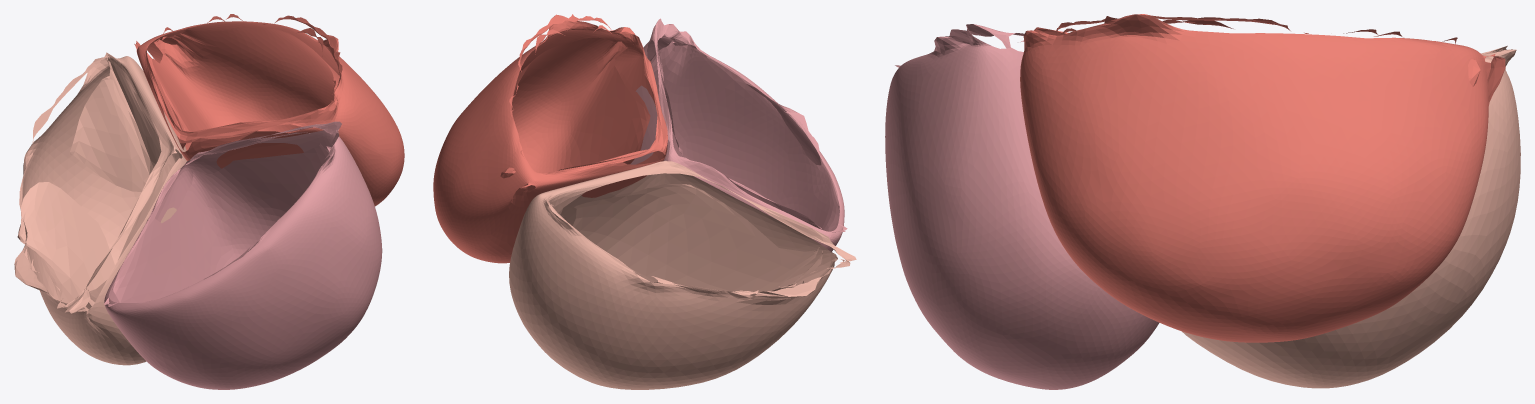
The model's file is valvola_aortica.glb.
3 views of the same model, side by side, from view 1: azimuth 30°, elevation 25°; view 2: azimuth 150°, elevation 25°; view 3: azimuth 270°, elevation 25° (orthographic). The views are drawn at different scales.
Parts seen in each view (by area): view 1: anterior cusp of aortic valve, right posterior cusp of aortic valve, left posterior cusp of aortic valve; view 2: right posterior cusp of aortic valve, left posterior cusp of aortic valve, anterior cusp of aortic valve; view 3: left posterior cusp of aortic valve, anterior cusp of aortic valve, right posterior cusp of aortic valve.
Boxes of the visible parts, left/top/right/bottom form: anterior cusp of aortic valve: left=104, top=121, right=382, bottom=389; right posterior cusp of aortic valve: left=14, top=52, right=186, bottom=365; left posterior cusp of aortic valve: left=134, top=14, right=404, bottom=206; right posterior cusp of aortic valve: left=509, top=160, right=856, bottom=389; left posterior cusp of aortic valve: left=433, top=14, right=667, bottom=263; anterior cusp of aortic valve: left=630, top=18, right=847, bottom=251; left posterior cusp of aortic valve: left=1020, top=14, right=1505, bottom=342; anterior cusp of aortic valve: left=885, top=24, right=1159, bottom=389; right posterior cusp of aortic valve: left=1182, top=45, right=1520, bottom=388.
Size of the model in its own units: 27.7 by 22.23 by 27.28.
